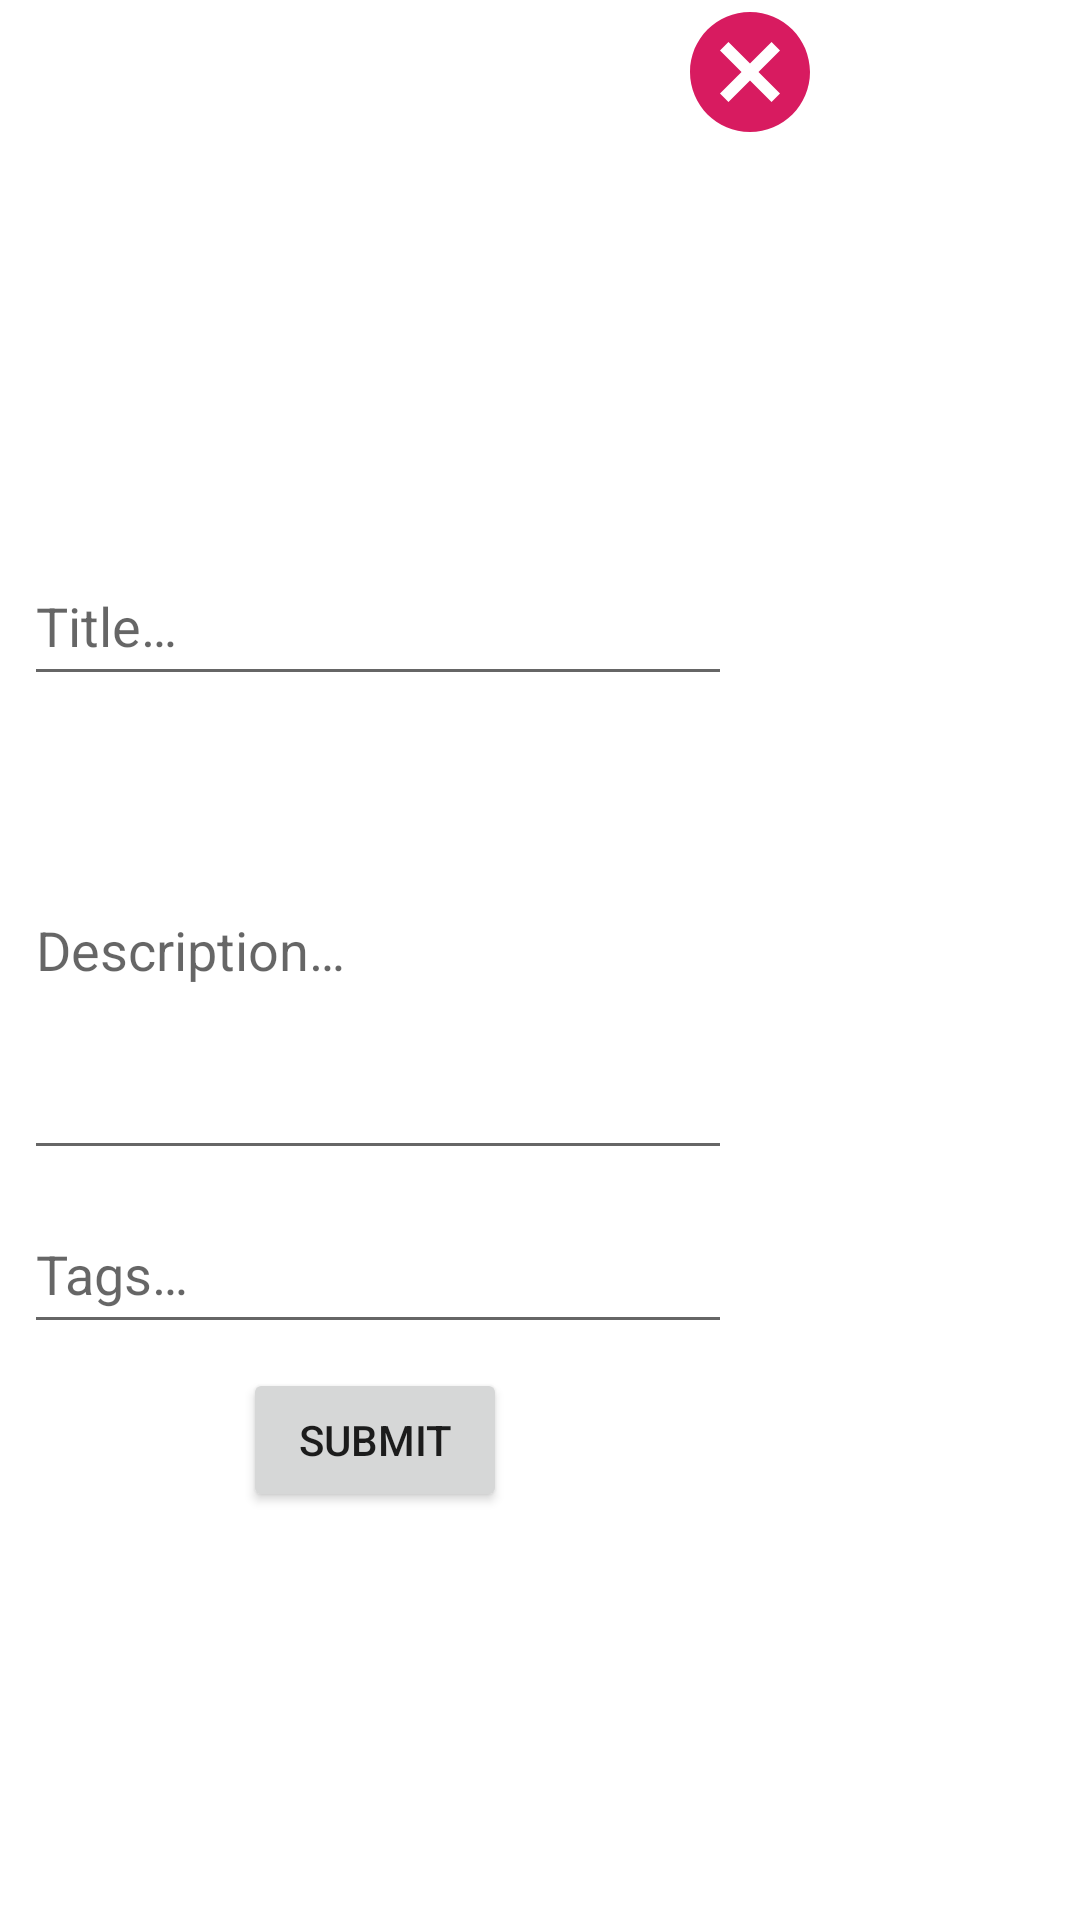

Icons on this 1080 x 1920 Android screen, each with its box as (x1, y1, x2, y2):
Cancel Image Add: (690, 12, 810, 132)
